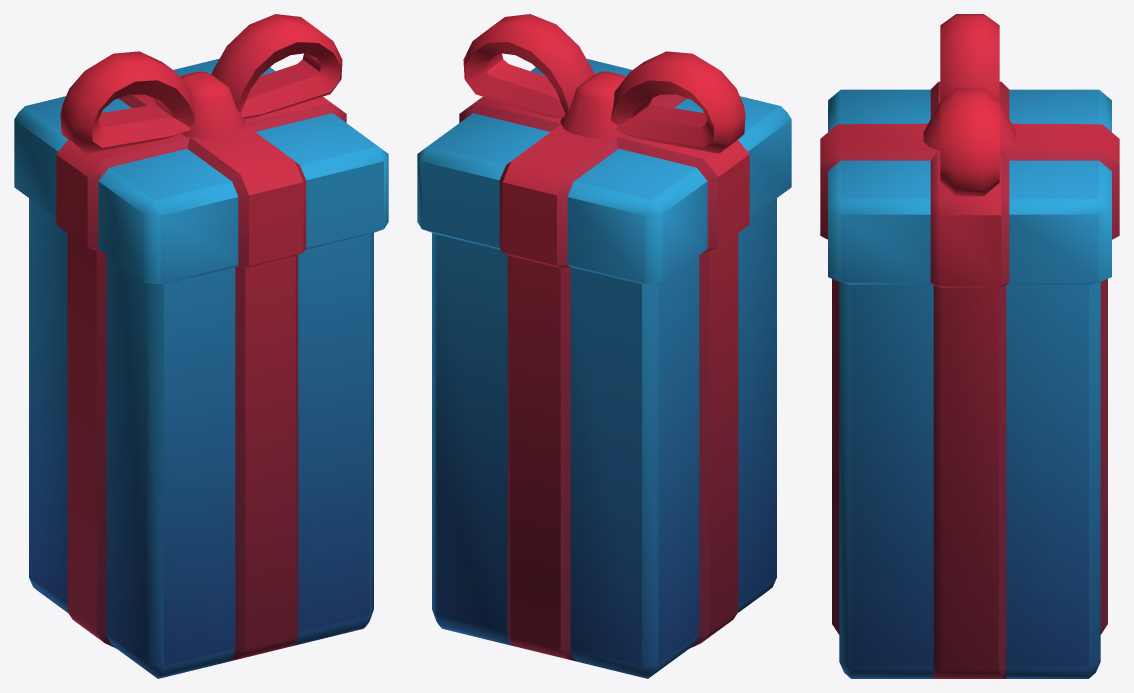
File: present_B_blue.obj
3 renders of one model, left to right at view 1: azimuth 30°, elevation 25°; view 2: azimuth 150°, elevation 25°; view 3: azimuth 270°, elevation 25°, orthographic.
Parts seen in each view (by area): view 1: present_B_blue; view 2: present_B_blue; view 3: present_B_blue.
Boxes of the visible parts, x1,y1,x2,y2 form: present_B_blue: (14,14,388,678); present_B_blue: (417,14,791,678); present_B_blue: (820,14,1119,678).
Bounding box in the file's own units: 0.5215 × 1.06 × 0.5038.
Materials: 1 (1 with a texture image).
